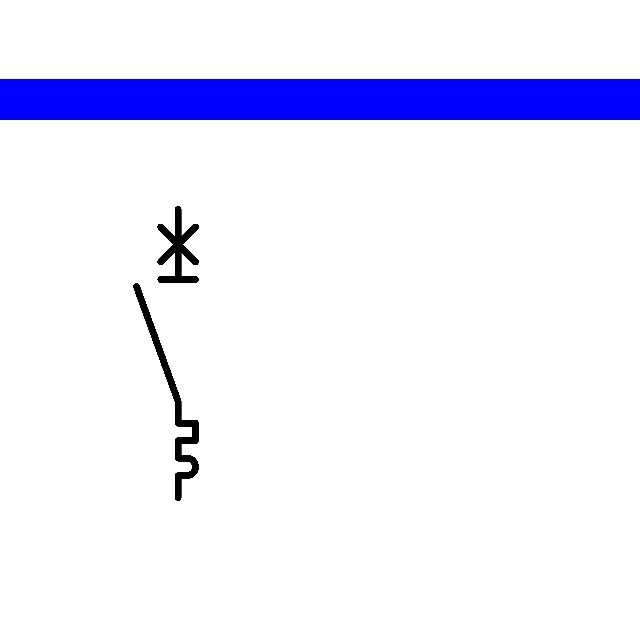interruptor_termomagnetico: (129, 202, 203, 505)
